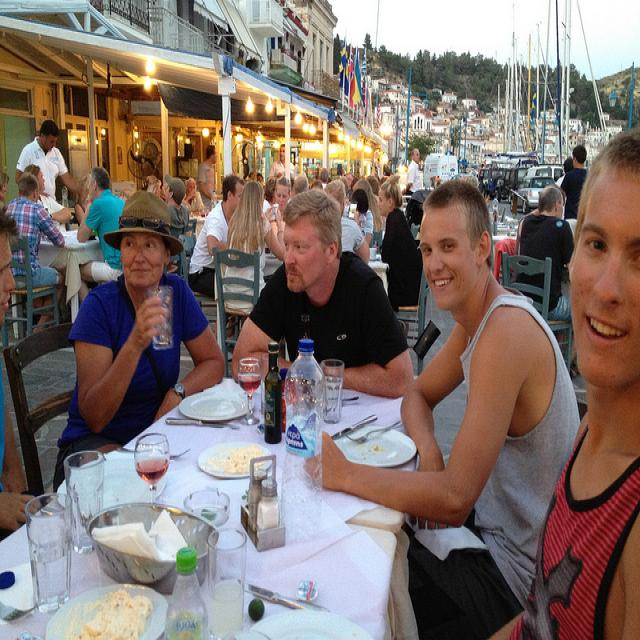chair: (3, 321, 77, 493), (503, 251, 573, 377), (4, 237, 62, 346), (213, 247, 260, 378), (180, 235, 217, 302), (395, 268, 429, 337), (177, 219, 197, 279), (112, 183, 136, 199)
dining table: (1, 342, 417, 633), (38, 231, 103, 323), (265, 257, 389, 271), (265, 242, 276, 258)
